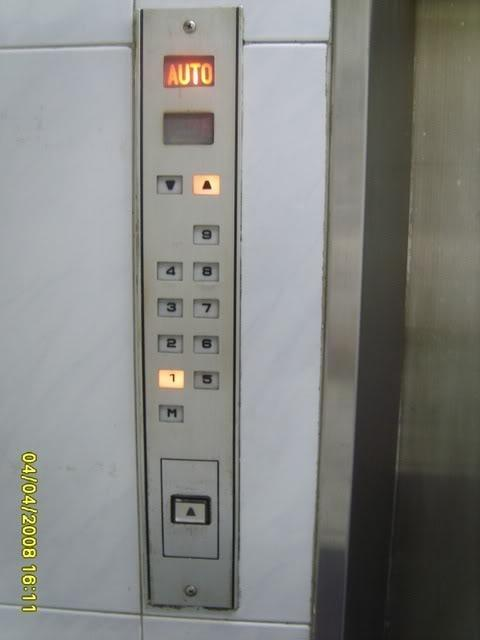1: (156, 365, 186, 389)
2: (154, 330, 184, 354)
3: (154, 294, 184, 318)
4: (154, 258, 184, 282)
5: (190, 366, 220, 390)
6: (190, 331, 220, 355)
7: (190, 295, 220, 319)
8: (190, 259, 220, 281)
9: (190, 222, 220, 245)
down: (154, 171, 184, 196)
led: (160, 108, 215, 145), (160, 52, 215, 88)
unknown: (155, 400, 185, 424)
up: (169, 491, 212, 525), (190, 172, 221, 195)
